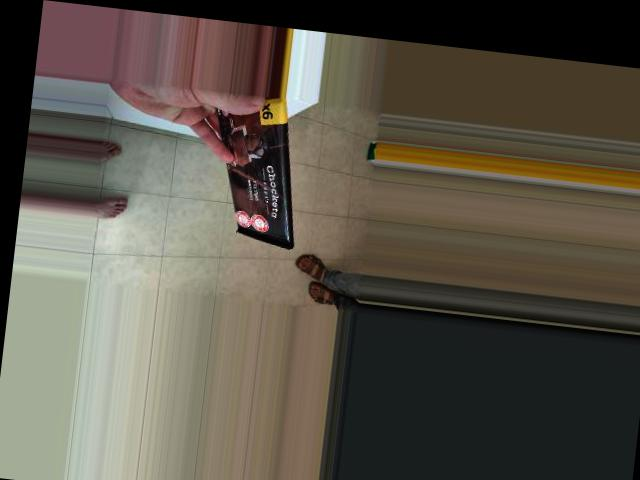chocolate: (181, 87, 321, 253)
